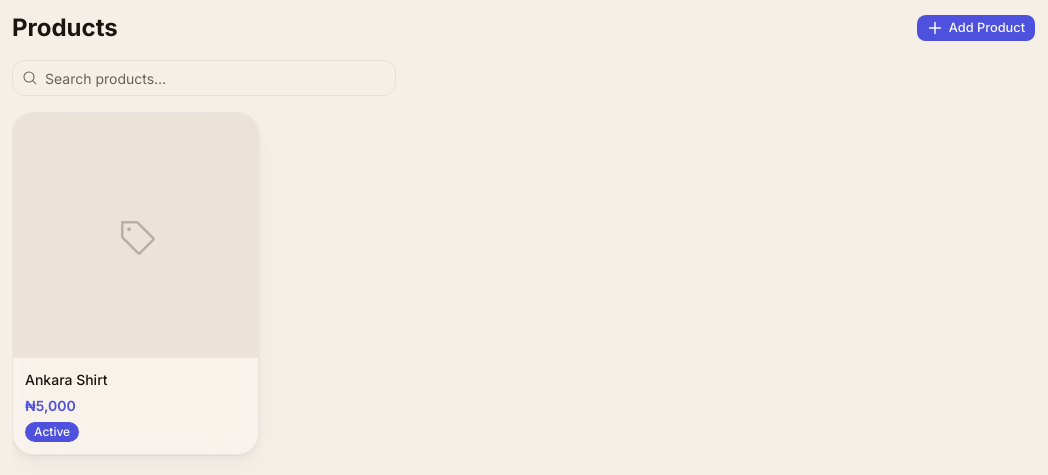
Scenario: ProductsPage › shows 'no results' message when search matches nothing
In the field with placeholder "Search products…": point(204, 78) [12,60,396,96], type "zzz"
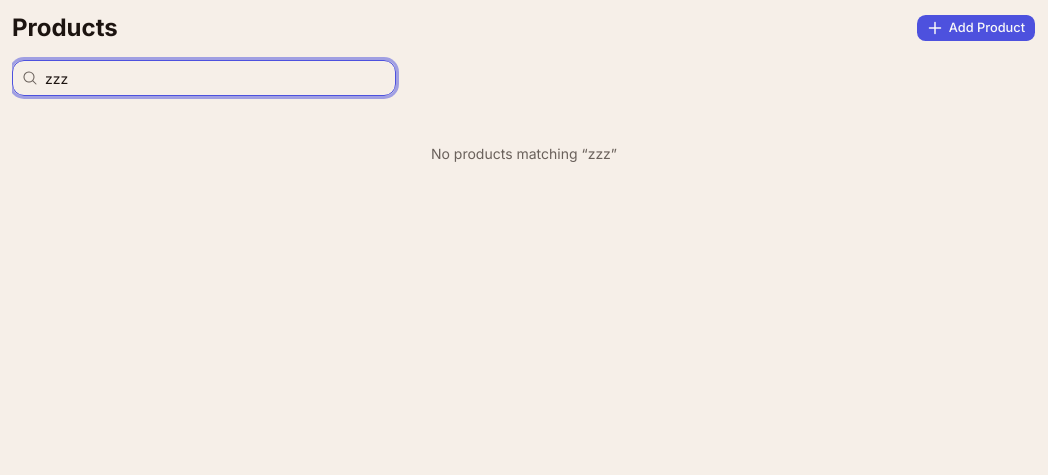
Check: the text "No products matching “zzz”" is shown, box [431,145,617,162]
